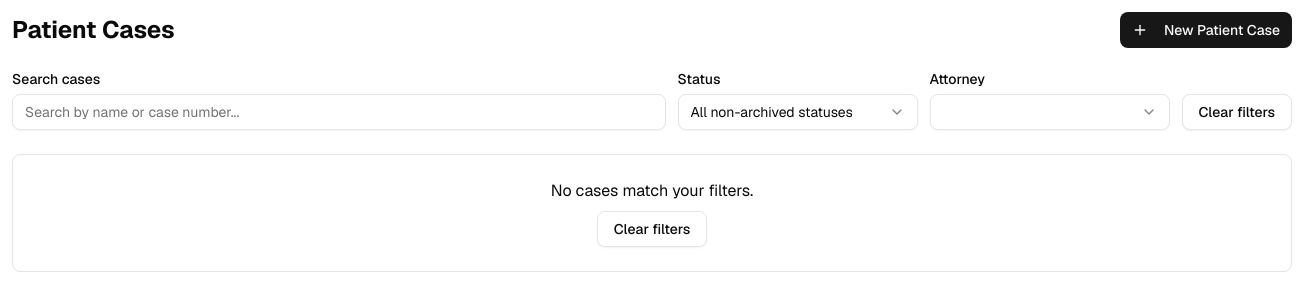
Test case: clears unmatched persisted filters: {"search":"","status":"all","attorney":"missing"}
The width and height of the screenshot is (1304, 289).
Expected: the text "No cases match your filters." is shown, x1=551 y1=180 x2=753 y2=201
Click the button "Clear filters" below "Attorney" at (1237, 112), box x1=1182 y1=94 x2=1292 y2=130
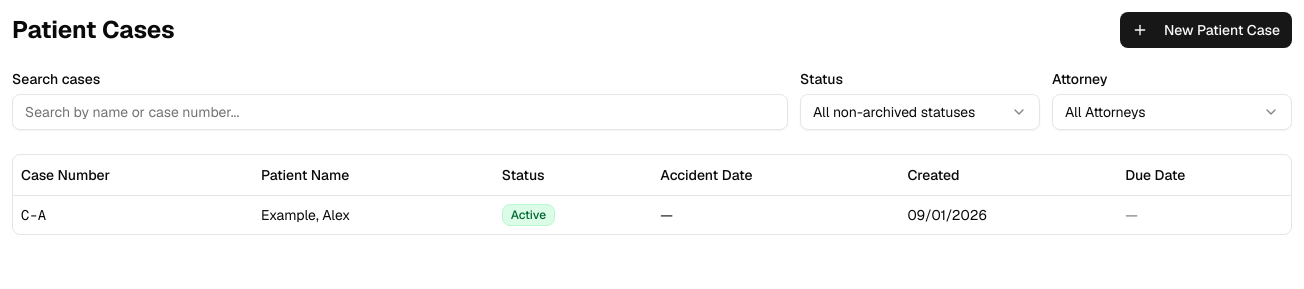
Result: the link "C-A" is shown at x1=21 y1=206 x2=46 y2=224
